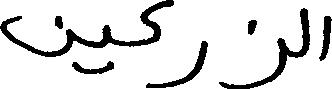X: (221, 15, 284, 88), (0, 11, 70, 61), (138, 0, 169, 88), (182, 36, 206, 88), (321, 11, 331, 65), (101, 20, 109, 78), (301, 3, 309, 61)
